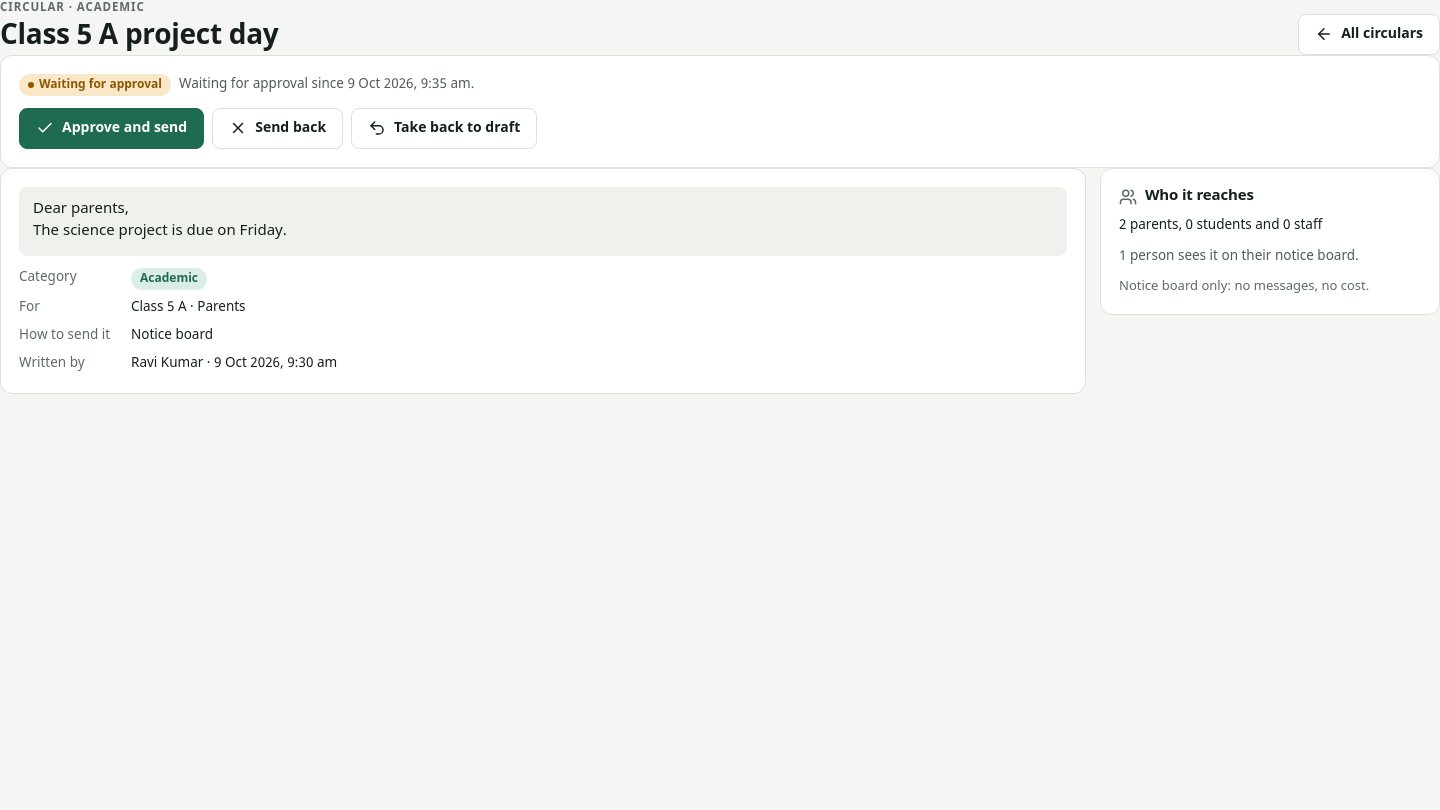
NoticeDetailView › asks for a note before sending a circular back
Click the button "Send back" at x=278, y=128, box [212,108,343,149]
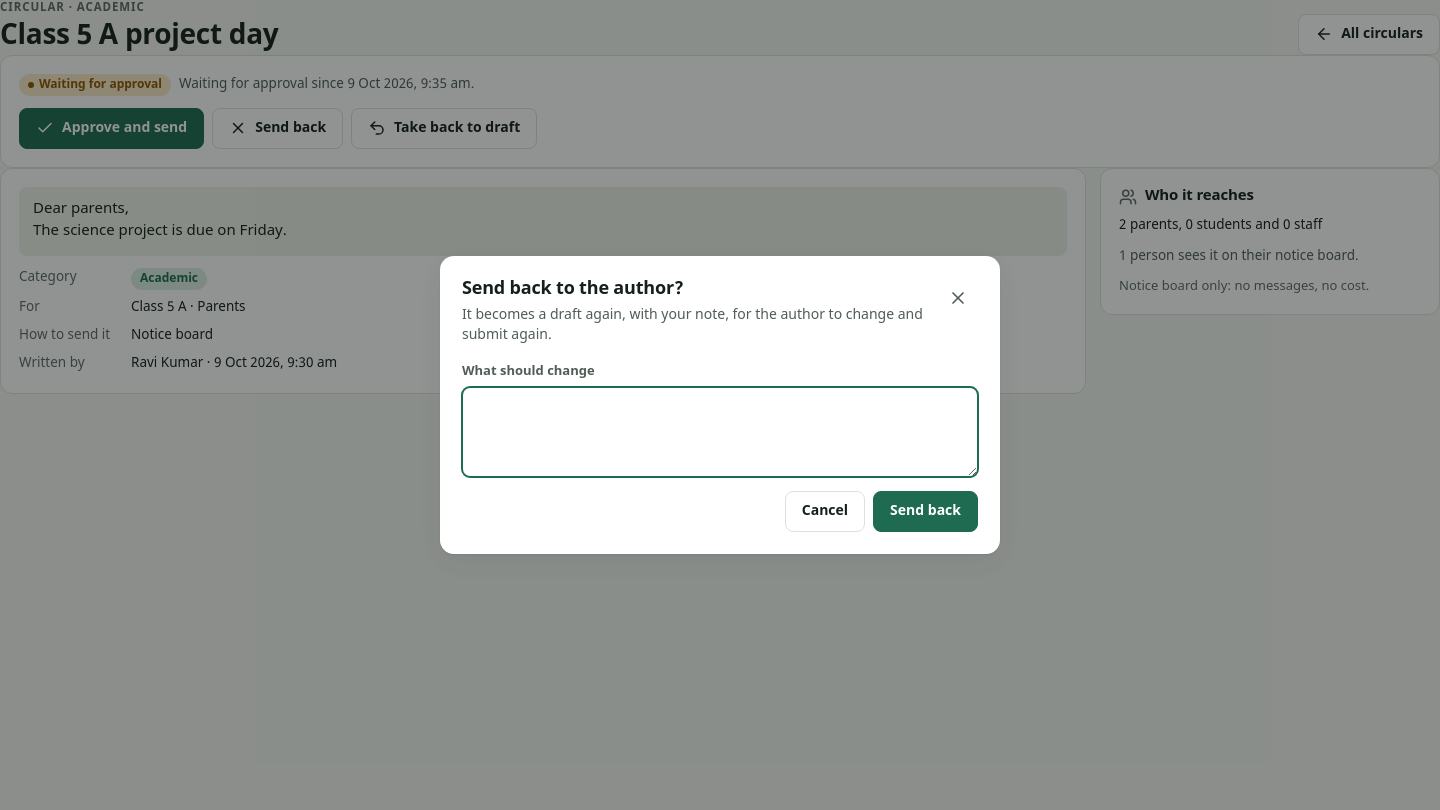
Click the button "Send back" at x=926, y=511, box [873,491,978,532]
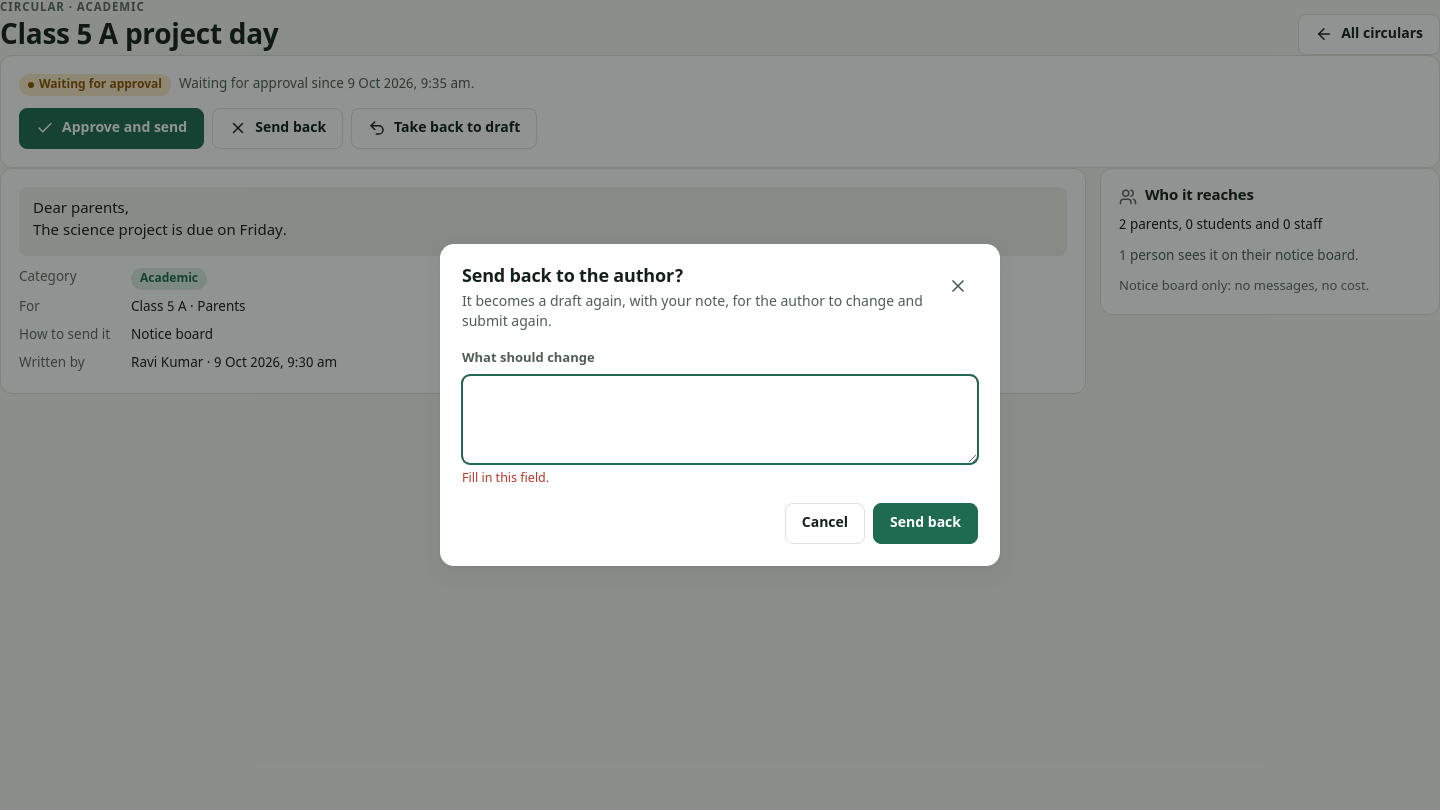
Check: the text "Fill in this field." is shown, box [462,471,549,487]
Type "Add the date." into the text box labelled "What should change" at x=720, y=420, box [462,375,978,464]
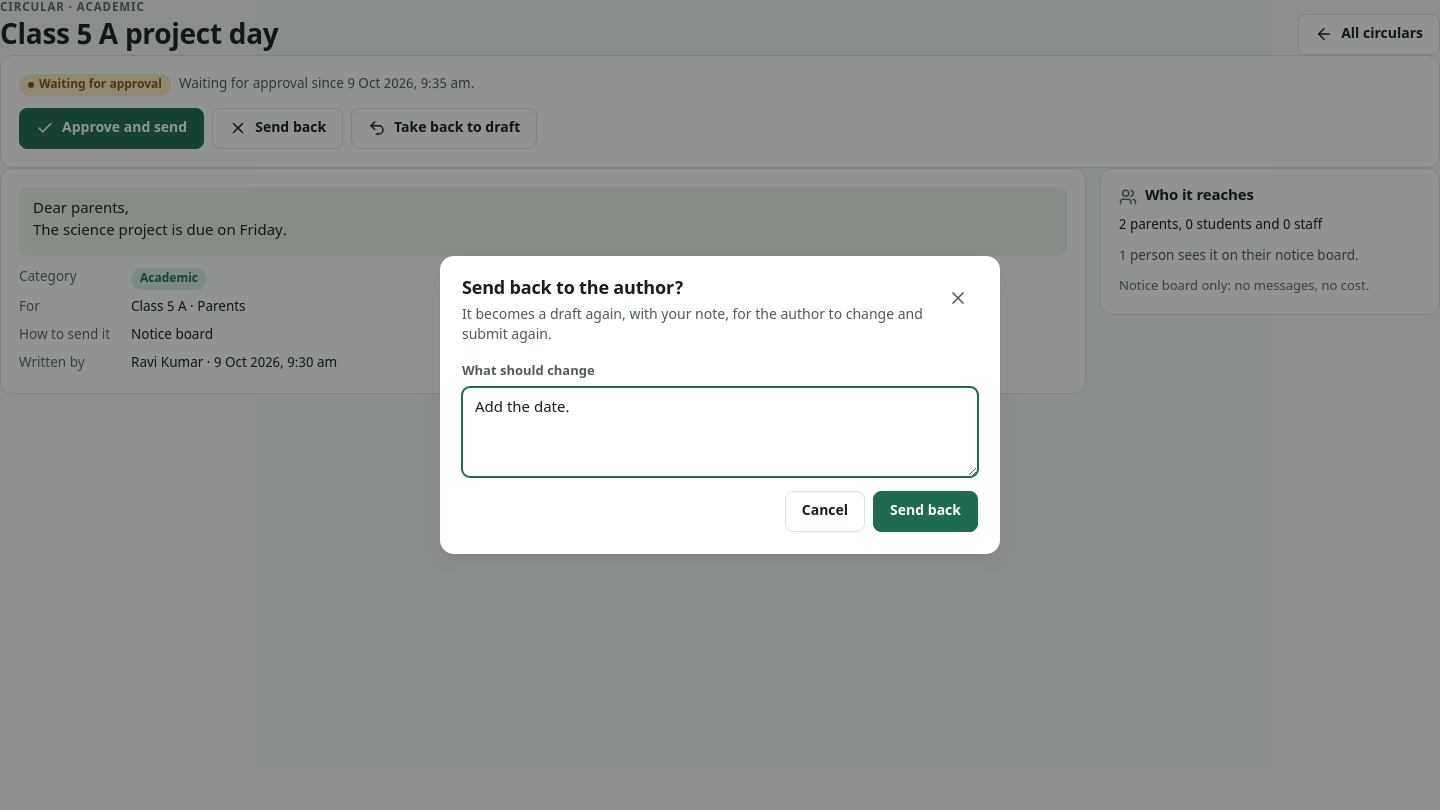
Click the button "Send back" at x=926, y=511, box [873,491,978,532]
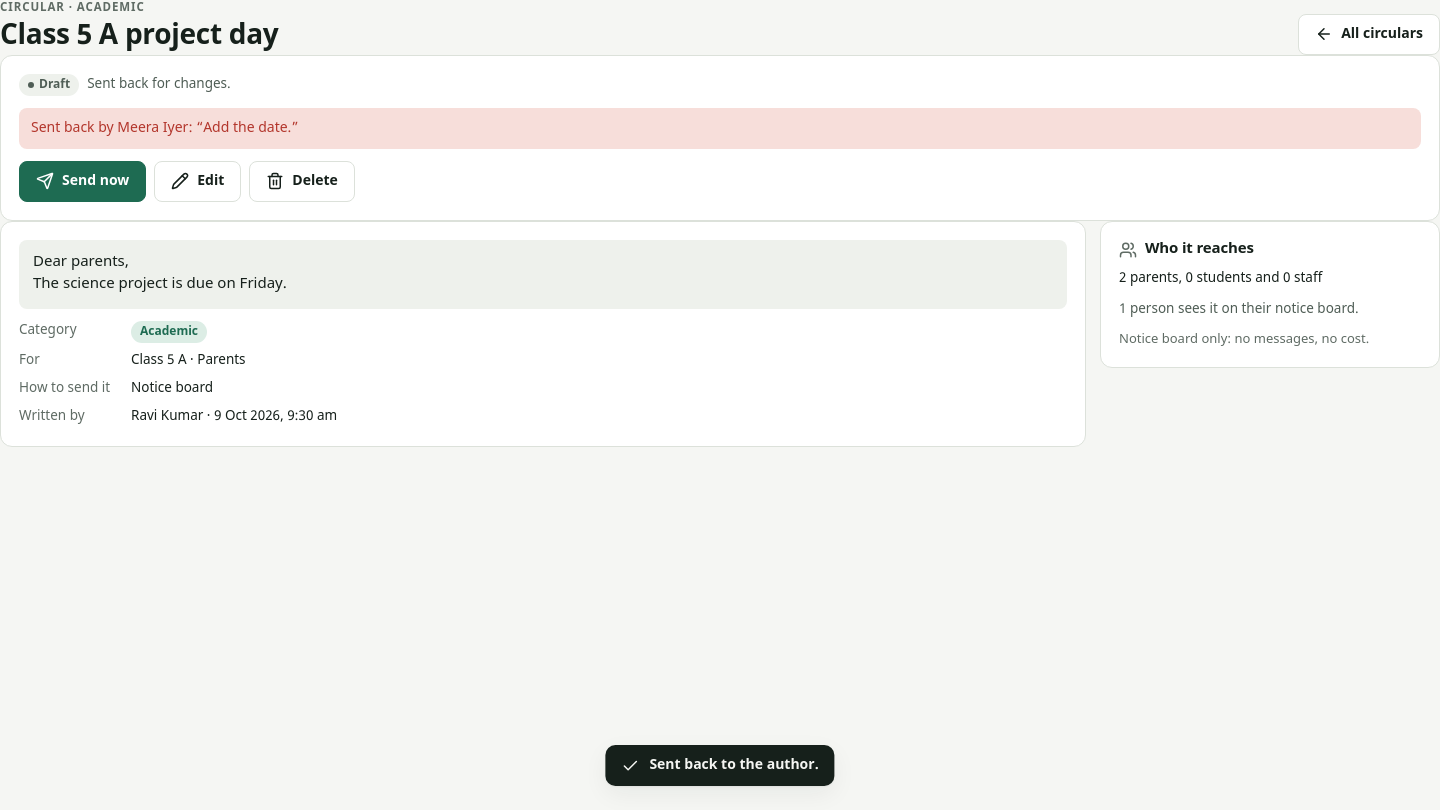
Check: the element with test id "review-note" reads "Sent back by Meera Iyer: Add the date.", box [19,108,1421,149]
